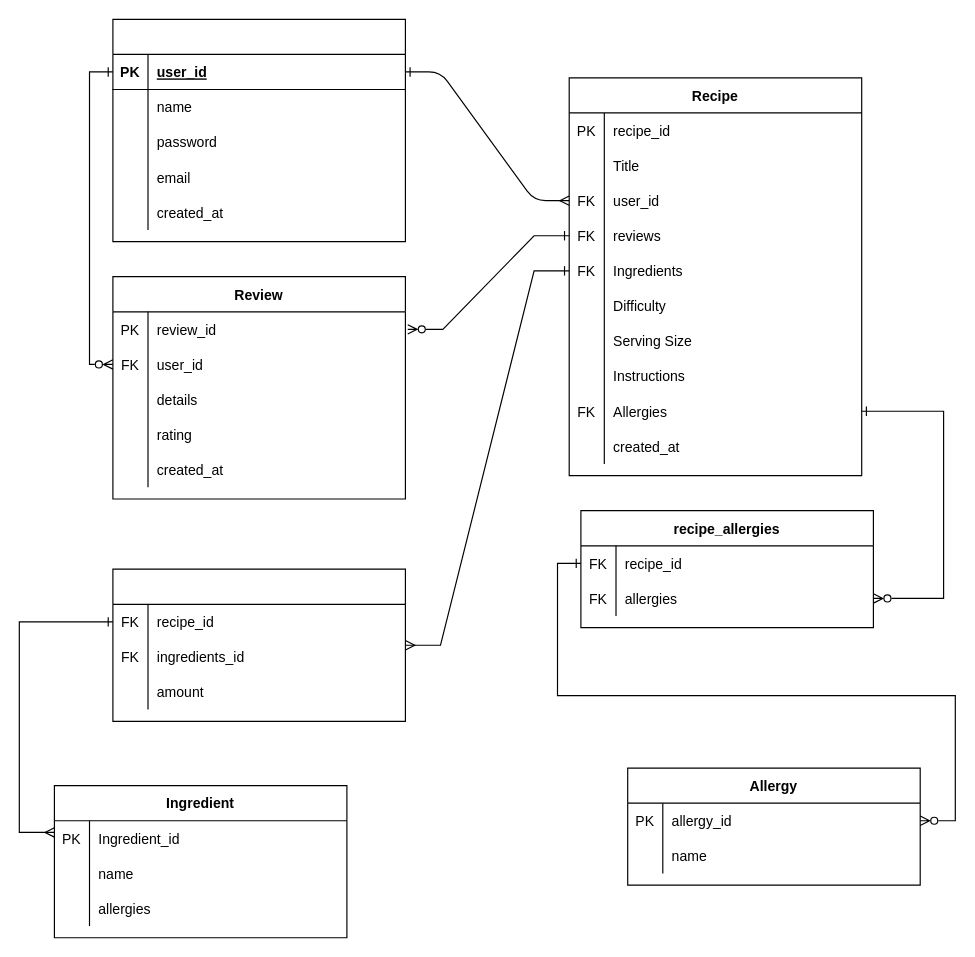
This 975x957 diagram has some shape labels left out. Each missing label, with the box of its shape:
recipe_Ingredients: (112, 568, 405, 721)
users: (112, 18, 405, 242)
